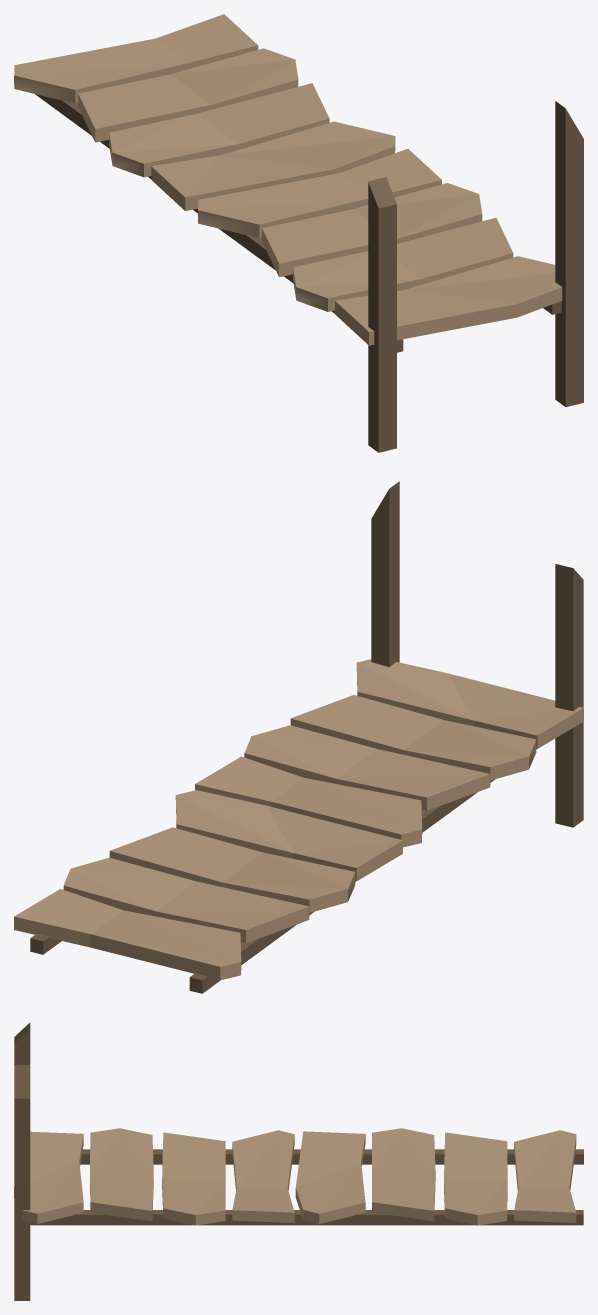
File: Bridge_1.fbx
The picture shows the model from 3 angles, top to bottom: view 1: azimuth 30°, elevation 25°; view 2: azimuth 150°, elevation 25°; view 3: azimuth 270°, elevation 25°; orthographic projection. The views are drawn at different scales.
Parts seen in each view (by area): view 1: Bridge_1; view 2: Bridge_1; view 3: Bridge_1.
Part boxes in pixels (left/top/right/bottom): Bridge_1: left=14, top=14, right=583, bottom=452; Bridge_1: left=14, top=481, right=583, bottom=993; Bridge_1: left=14, top=1022, right=583, bottom=1300.
Bounding box in the file's own units: 146 × 180 × 405.
1 material, 1 textured.
